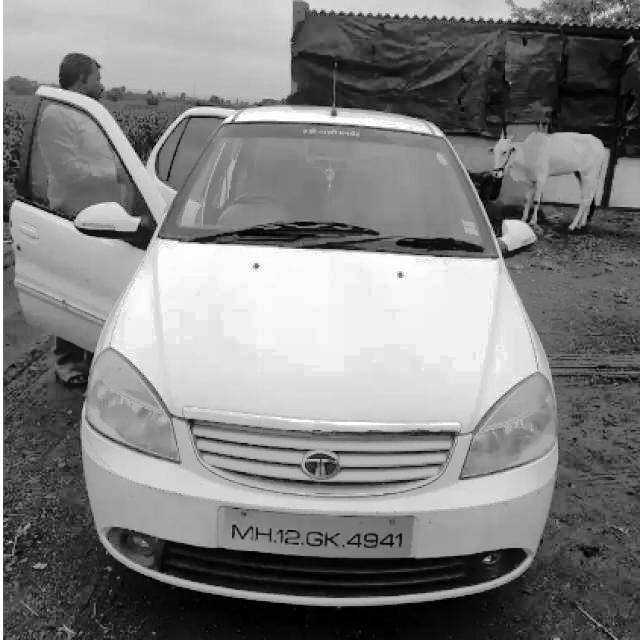Car: (129, 89, 551, 610)
